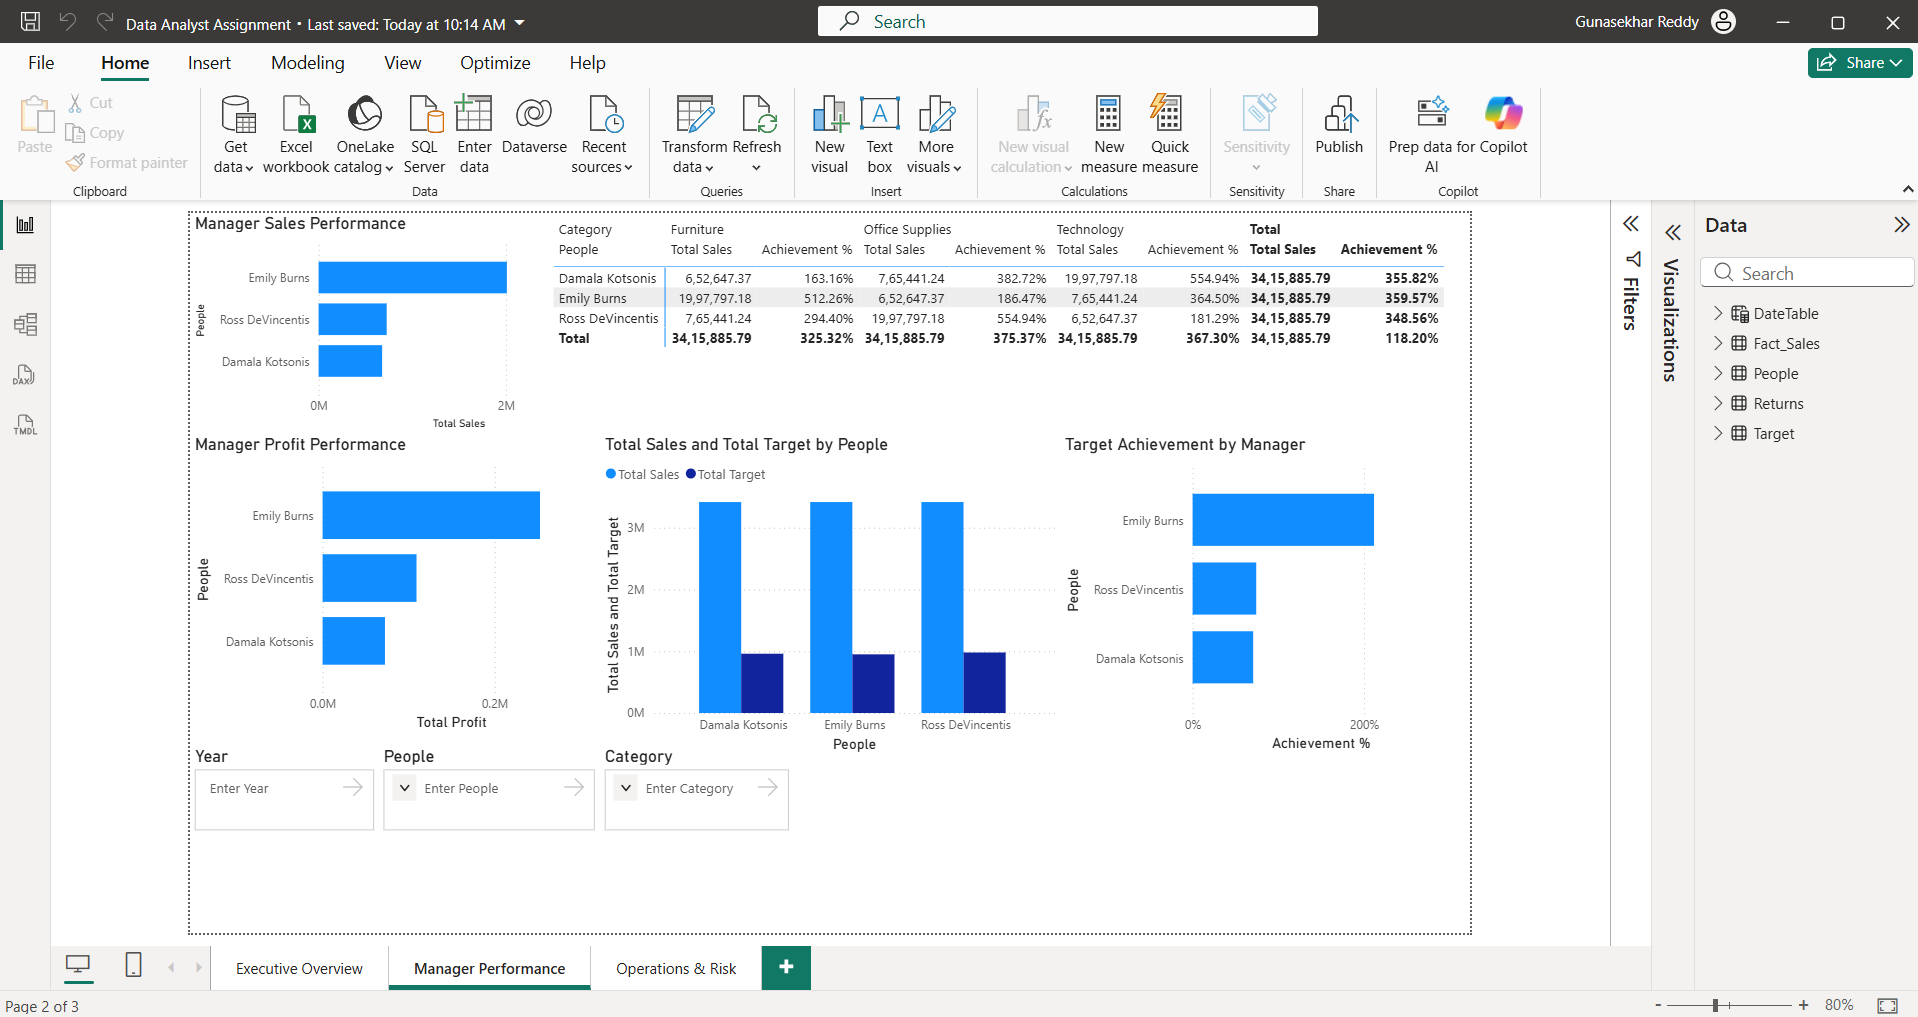

The dashboard page shown, as its layout file describes it:
{"tool":"powerbi","page":{"name":"Manager Performance","canvas":[1280,720],"ordinal":1},"visuals":[{"type":"clusteredBarChart","title":"Manager Sales Performance","fields":{"Y":["DateTable.Total Sales"],"Category":["People.People"]},"box":[0,0,423.8,221.2],"z":0},{"type":"clusteredBarChart","title":"Manager Profit Performance","fields":{"Category":["People.People"],"Y":["DateTable.Total Profit"]},"box":[0,221.2,410,301.2],"z":1000},{"type":"clusteredColumnChart","fields":{"Category":["Target.People"],"Y":["DateTable.Total Sales","DateTable.Total Target"]},"box":[410,221.2,460,322.5],"z":2000},{"type":"pivotTable","fields":{"Rows":["Target.People"],"Values":["DateTable.Total Sales","DateTable.Achievement %"],"Columns":["Target.Category"]},"box":[358.8,0,921.2,141.2],"z":3000},{"type":"clusteredBarChart","title":"Target Achievement by Manager","fields":{"Category":["People.People"],"Y":["DateTable.Achievement %"]},"box":[870,221.2,410,322.5],"z":4000},{"type":"textSlicer","fields":{"Values":["DateTable.Year"]},"box":[0,532.5,188.8,90],"z":5000},{"type":"textSlicer","fields":{"Values":["People.People"]},"box":[188.8,532.5,221.2,90],"z":6000},{"type":"textSlicer","fields":{"Values":["Fact_Sales.Category"]},"box":[410,532.5,193.8,90],"z":7000}]}

Visuals, with their boxes on the page's 1280x720 design canvas (x1, y1, x2, y2). These are canvas units, not pixel positions in the 1918x1017 screenshot, which may show the page scaled, cropped or inside an application window:
"Manager Sales Performance" clusteredBarChart: crop(0, 0, 424, 221)
"Manager Profit Performance" clusteredBarChart: crop(0, 221, 410, 522)
clusteredColumnChart - Target.People x DateTable.Total Sales: crop(410, 221, 870, 544)
pivotTable - Target.People x DateTable.Total Sales: crop(359, 0, 1280, 141)
"Target Achievement by Manager" clusteredBarChart: crop(870, 221, 1280, 544)
textSlicer - DateTable.Year: crop(0, 532, 189, 622)
textSlicer - People.People: crop(189, 532, 410, 622)
textSlicer - Fact_Sales.Category: crop(410, 532, 604, 622)
